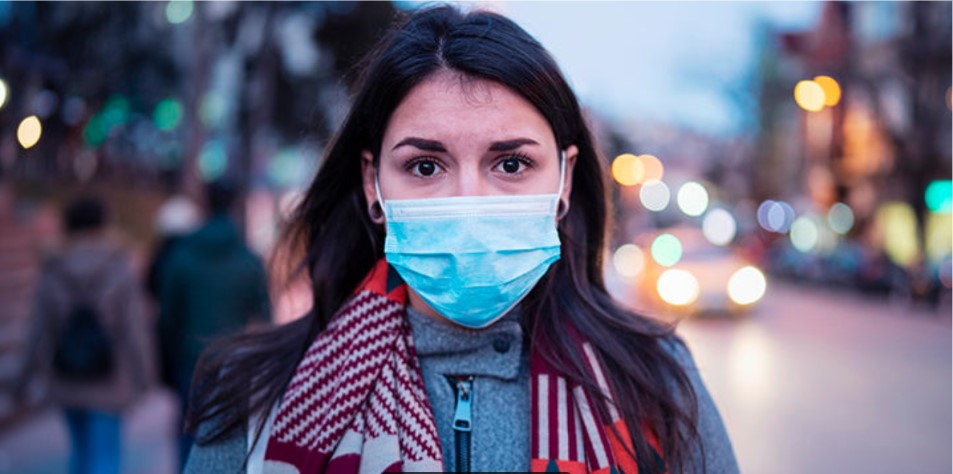face_with_mask: (349, 15, 588, 332)
